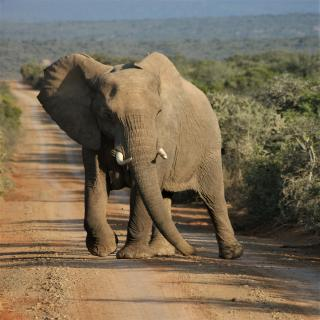Elephant: (33, 50, 260, 266)
